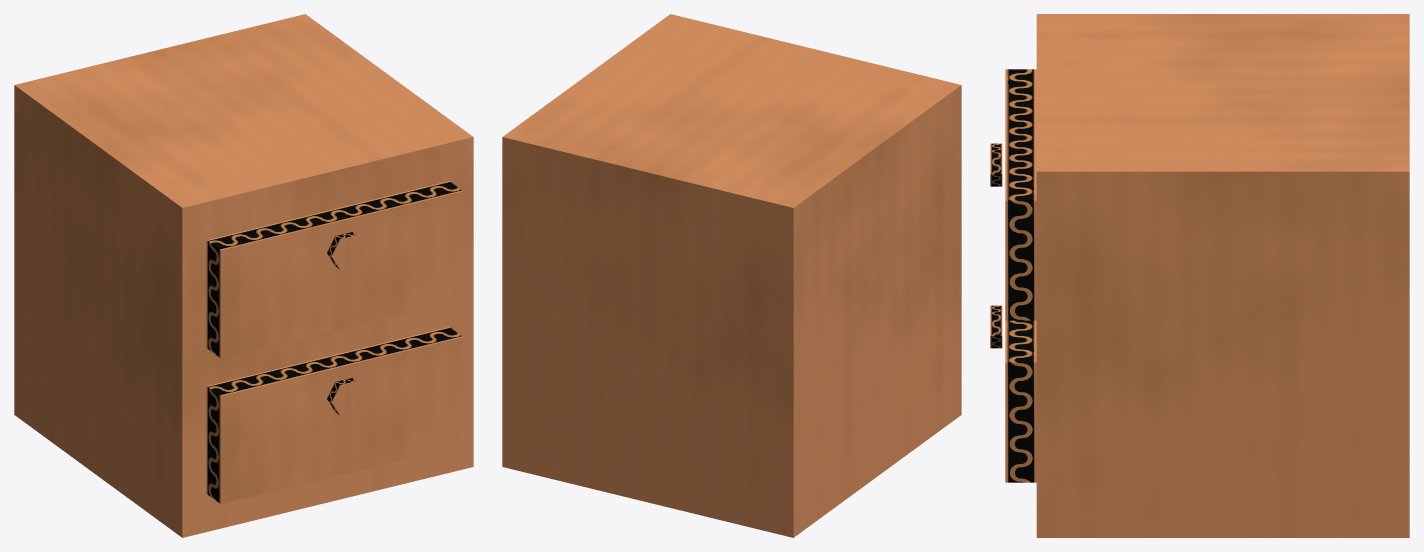
Rendered from M_CardboardKitchen_Cupboard2.fbx.
3 views of the same model, side by side, from view 1: azimuth 30°, elevation 25°; view 2: azimuth 150°, elevation 25°; view 3: azimuth 270°, elevation 25° (orthographic). The views are drawn at different scales.
Parts seen in each view (by area): view 1: M_CardboardKitchen_Cupboard2, Drawer_1, Drawer_2; view 2: M_CardboardKitchen_Cupboard2; view 3: M_CardboardKitchen_Cupboard2, Drawer_1, Drawer_2.
Boxes of the visible parts, x1=… form: M_CardboardKitchen_Cupboard2: x1=14, y1=14, x2=473, y2=537; Drawer_1: x1=206, y1=181, x2=463, y2=358; Drawer_2: x1=206, y1=327, x2=463, y2=503; M_CardboardKitchen_Cupboard2: x1=502, y1=14, x2=961, y2=537; M_CardboardKitchen_Cupboard2: x1=1036, y1=14, x2=1409, y2=537; Drawer_1: x1=990, y1=69, x2=1036, y2=320; Drawer_2: x1=990, y1=305, x2=1036, y2=482.
Size of the model in its own units: 3 by 3.25 by 3.37.
Materials: 1 (1 with a texture image).
